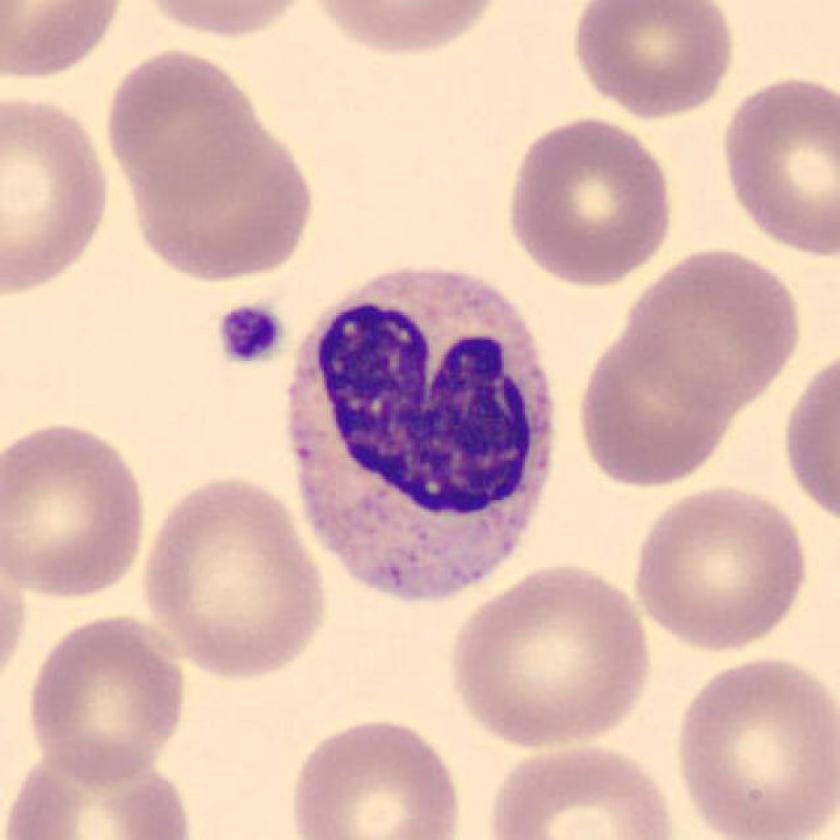neutrophil: (288, 269, 555, 597)
